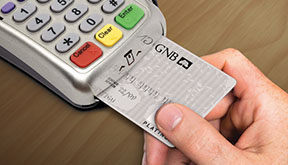tarjeta: (94, 36, 236, 149)
